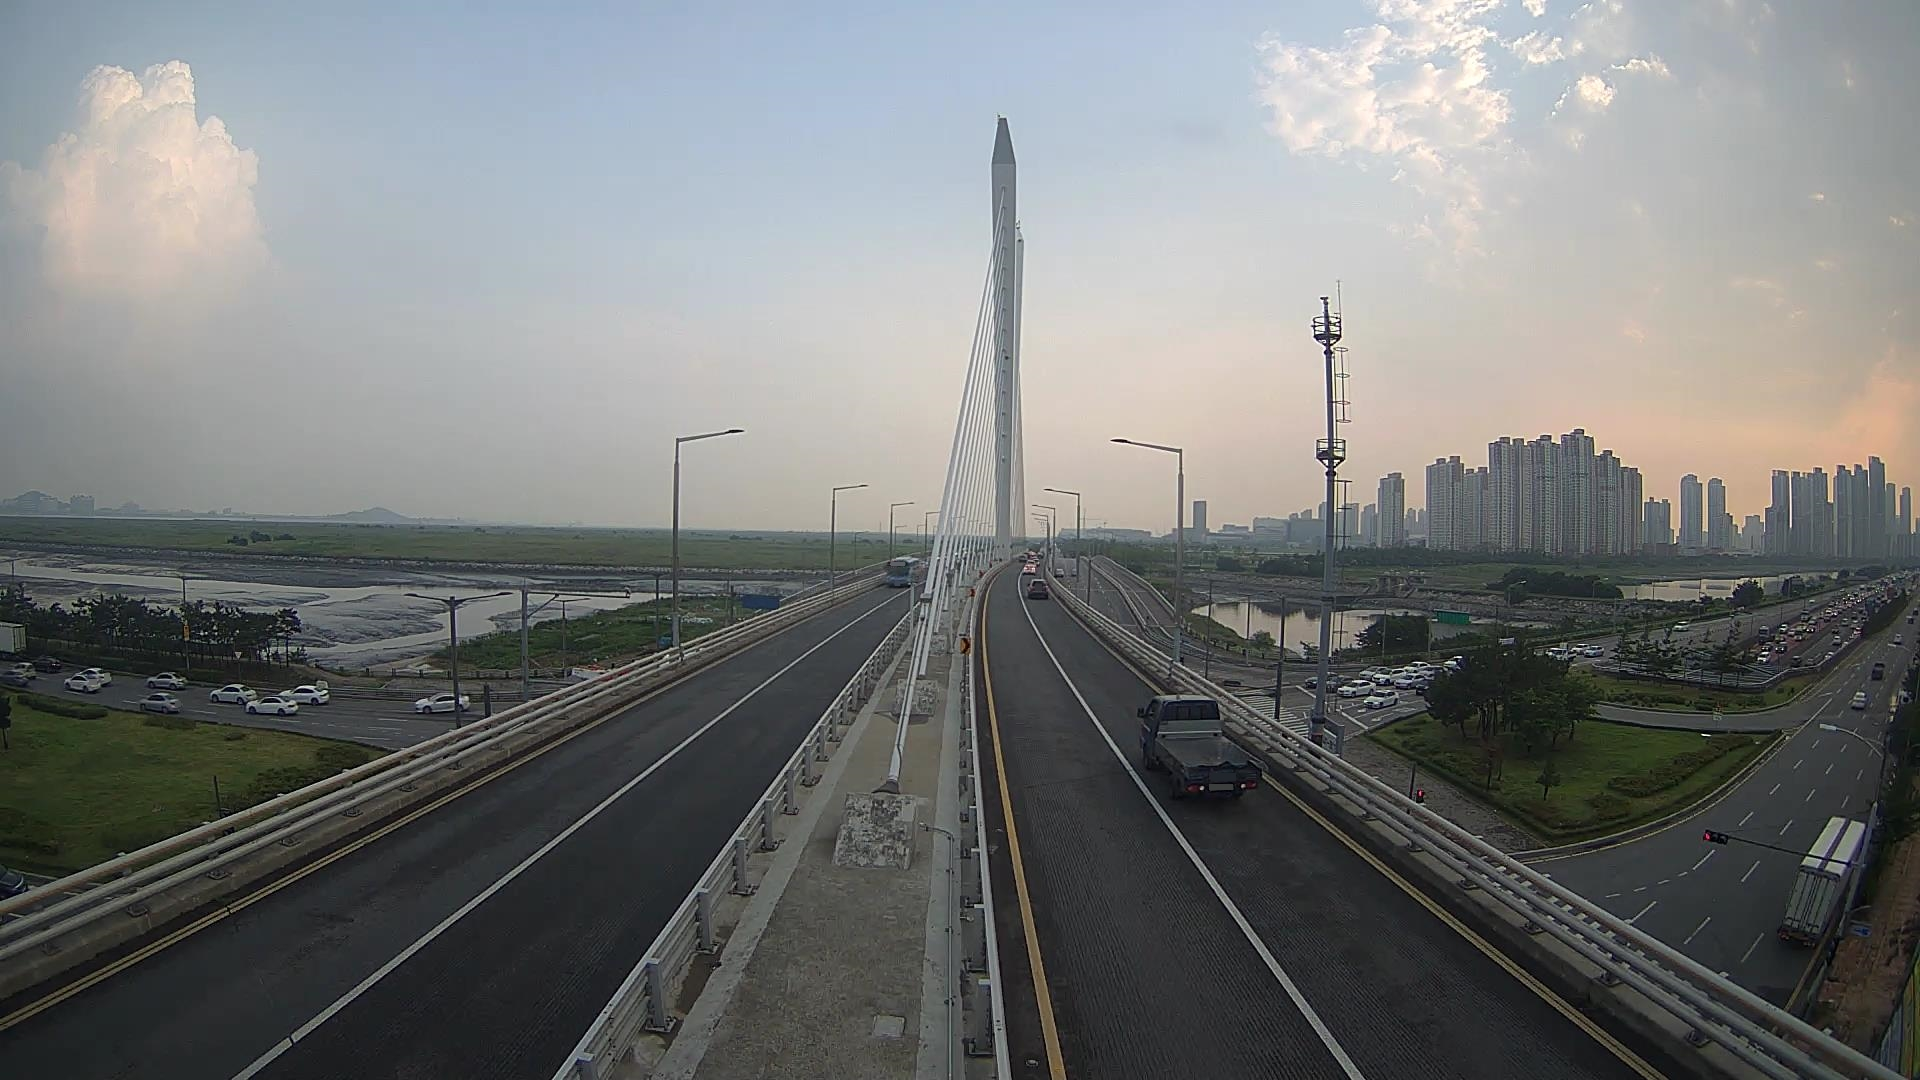정상차량: (1137, 692, 1269, 799)
